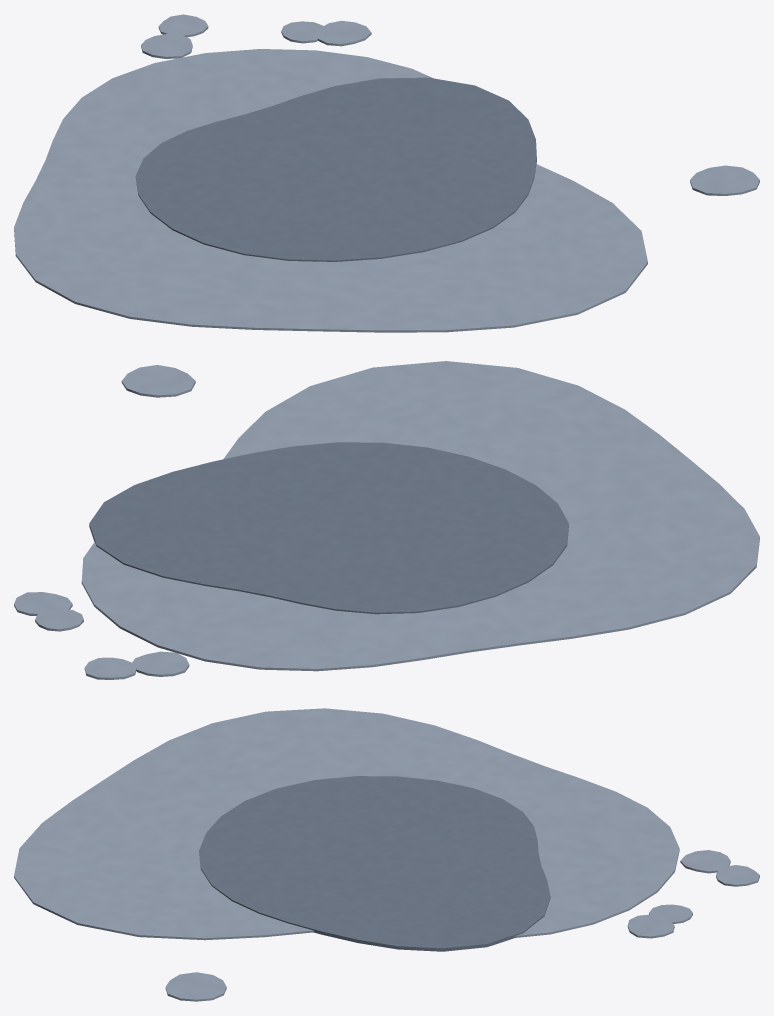
Rendered from Furn_Trace_WetStain.fbx.
3 renders of one model, top to bottom at view 1: azimuth 30°, elevation 25°; view 2: azimuth 150°, elevation 25°; view 3: azimuth 270°, elevation 25°, orthographic. The views are drawn at different scales.
Parts seen in each view (by area): view 1: Trace_WetStain; view 2: Trace_WetStain; view 3: Trace_WetStain.
Part boxes in pixels (box(x1,y1,x2,y2)): Trace_WetStain: box(14, 14, 759, 332); Trace_WetStain: box(14, 361, 759, 679); Trace_WetStain: box(14, 708, 759, 1001).
Bounding box in the file's own units: 0.4755 × 0.0025 × 0.5145.
Materials: 2 (2 with a texture image).
